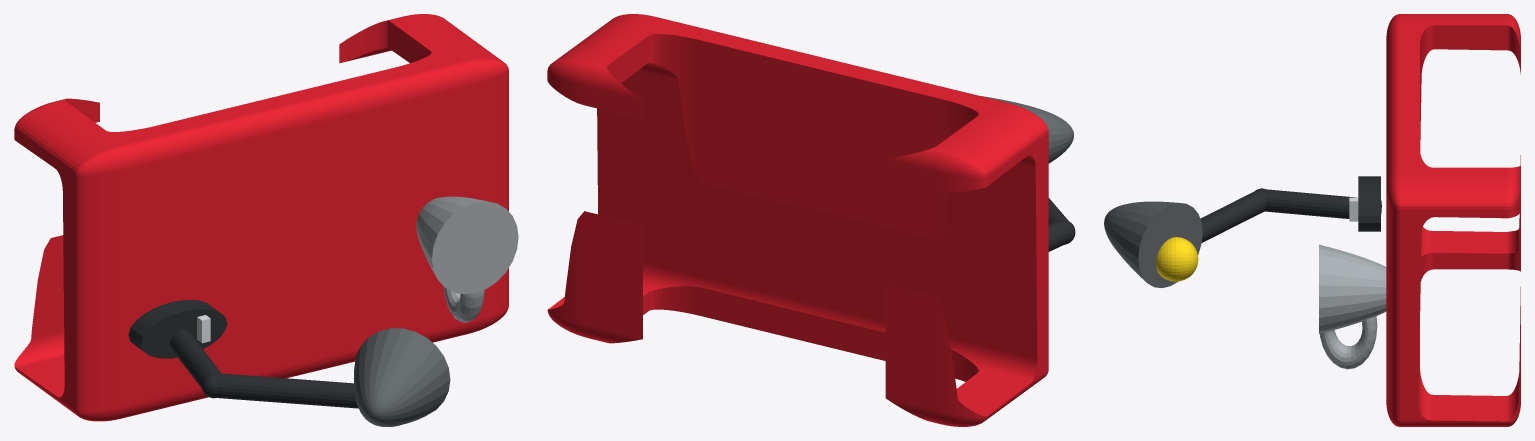
The model's file is tinker.obj.
3 views of the same model, side by side, from view 1: azimuth 30°, elevation 25°; view 2: azimuth 150°, elevation 25°; view 3: azimuth 270°, elevation 25° (orthographic). The views are drawn at different scales.
Parts seen in each view (by area): view 1: group_0_15277357, group_0_10988977, group_0_2829873, group_0_6383466; view 2: group_0_15277357, group_0_6383466, group_0_2829873; view 3: group_0_15277357, group_0_10988977, group_0_6383466, group_0_2829873, group_0_16768282.
Part boxes in pixels (left/top/right/bottom): group_0_15277357: left=14, top=14, right=508, bottom=421; group_0_10988977: left=416, top=196, right=518, bottom=322; group_0_2829873: left=128, top=300, right=358, bottom=408; group_0_6383466: left=353, top=328, right=450, bottom=426; group_0_15277357: left=547, top=14, right=1048, bottom=426; group_0_6383466: left=979, top=95, right=1073, bottom=163; group_0_2829873: left=1048, top=198, right=1075, bottom=251; group_0_15277357: left=1386, top=14, right=1520, bottom=426; group_0_10988977: left=1319, top=244, right=1386, bottom=369; group_0_6383466: left=1104, top=201, right=1202, bottom=287; group_0_2829873: left=1200, top=176, right=1381, bottom=242; group_0_16768282: left=1156, top=237, right=1198, bottom=281.
Size of the model in its own units: 100 by 60 by 92.93.
